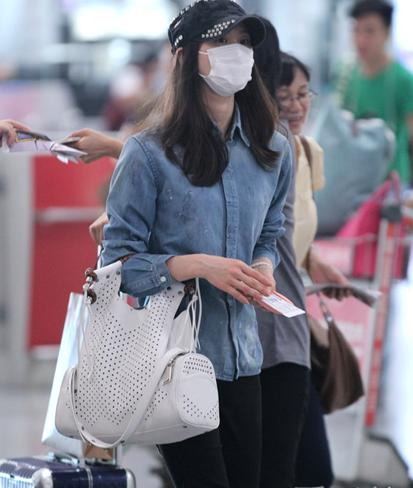NONE: (273, 81, 311, 138), (351, 20, 387, 61)
OK: (195, 24, 259, 96)
